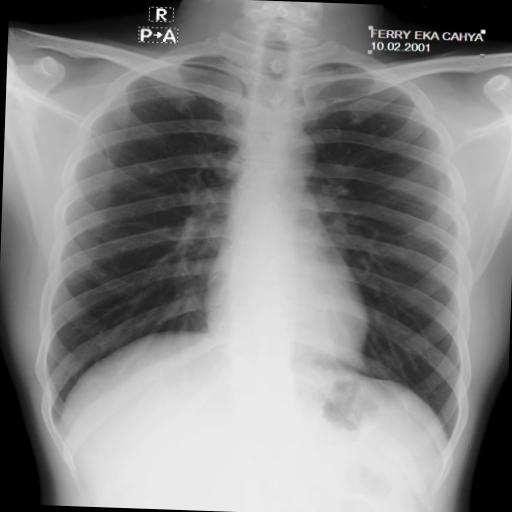normal: (23, 18, 490, 456)
